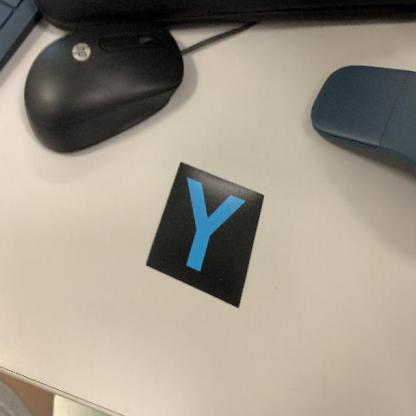y: (142, 159, 266, 315)
